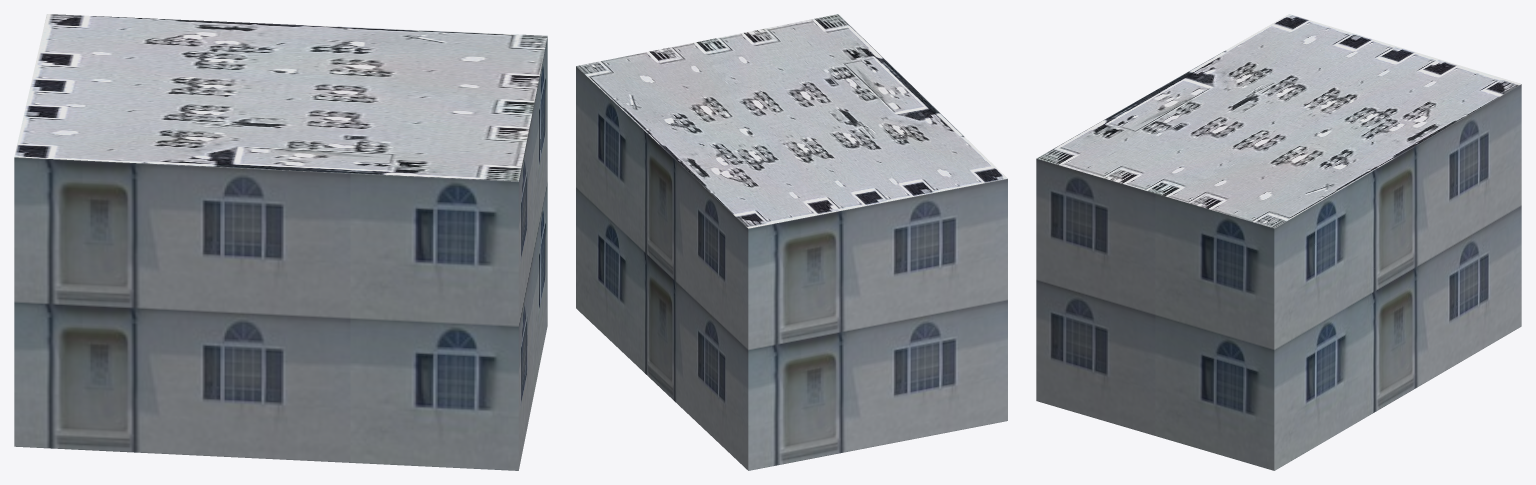
Rendered from ResTex__1952.fbx.
3 renders of one model, left to right at view 1: azimuth 30°, elevation 25°; view 2: azimuth 150°, elevation 25°; view 3: azimuth 270°, elevation 25°, orthographic. The views are drawn at different scales.
Parts seen in each view (by area): view 1: CityEngineMaterial_17_m, CityEngineMaterial_8_m; view 2: CityEngineMaterial_17_m, CityEngineMaterial_8_m; view 3: CityEngineMaterial_17_m, CityEngineMaterial_8_m.
Boxes of the visible parts, left/top/right/bottom form: CityEngineMaterial_17_m: left=14, top=37, right=547, bottom=470; CityEngineMaterial_8_m: left=14, top=14, right=547, bottom=181; CityEngineMaterial_17_m: left=576, top=66, right=1007, bottom=470; CityEngineMaterial_8_m: left=576, top=14, right=1007, bottom=228; CityEngineMaterial_17_m: left=1036, top=84, right=1521, bottom=470; CityEngineMaterial_8_m: left=1036, top=14, right=1520, bottom=228.
Size of the model in its own units: 11.38 by 6 by 10.88.
2 materials, 2 textured.
